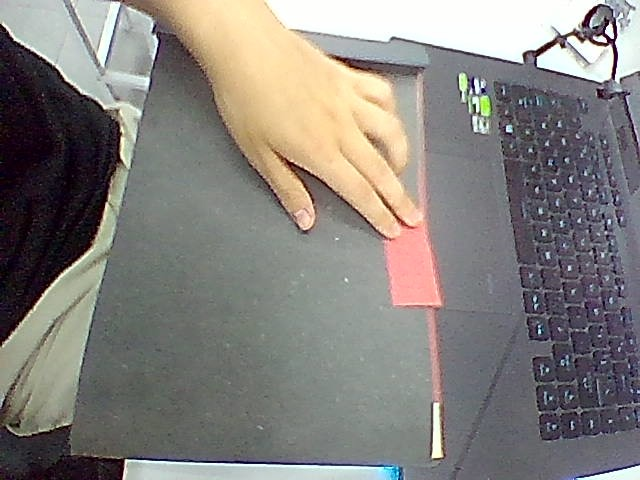card: (385, 224, 441, 309)
